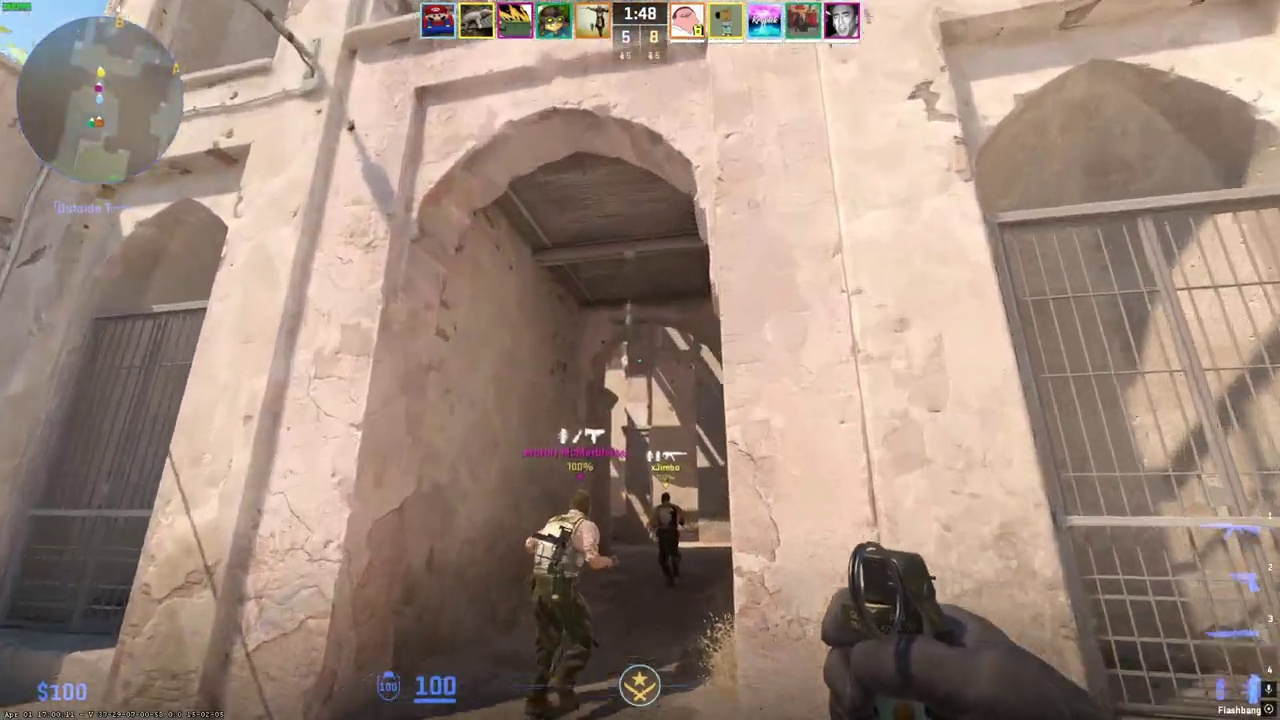Terrorist: (525, 490, 609, 717), (650, 492, 686, 587)
